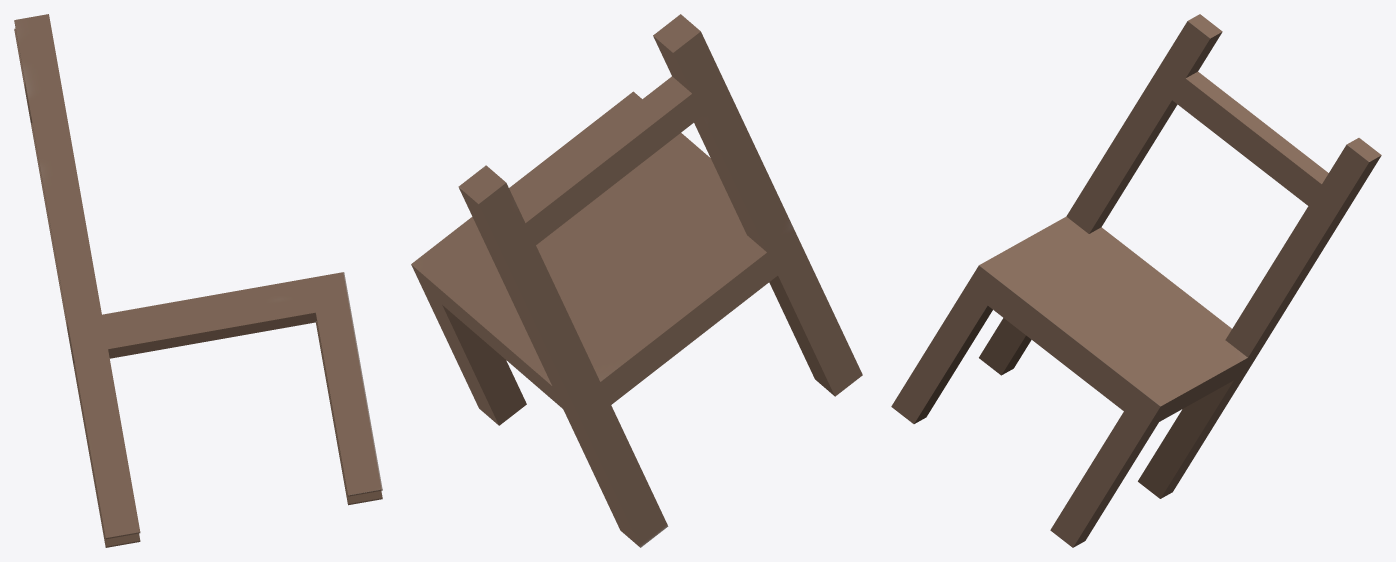
File: chair2.glb
The picture shows the model from 3 angles, left to right: view 1: azimuth 30°, elevation 25°; view 2: azimuth 150°, elevation 25°; view 3: azimuth 270°, elevation 25°; orthographic projection. The views are drawn at different scales.
Visible parts, largest first — view 1: chaise 2; view 2: chaise 2; view 3: chaise 2.
Part boxes in pixels (x1,y1,x2,y2): chaise 2: (14, 14, 382, 547); chaise 2: (411, 14, 862, 547); chaise 2: (891, 14, 1381, 547).
Size of the model in its own units: 1.12 by 1.69 by 1.67.
1 material, 1 textured.
